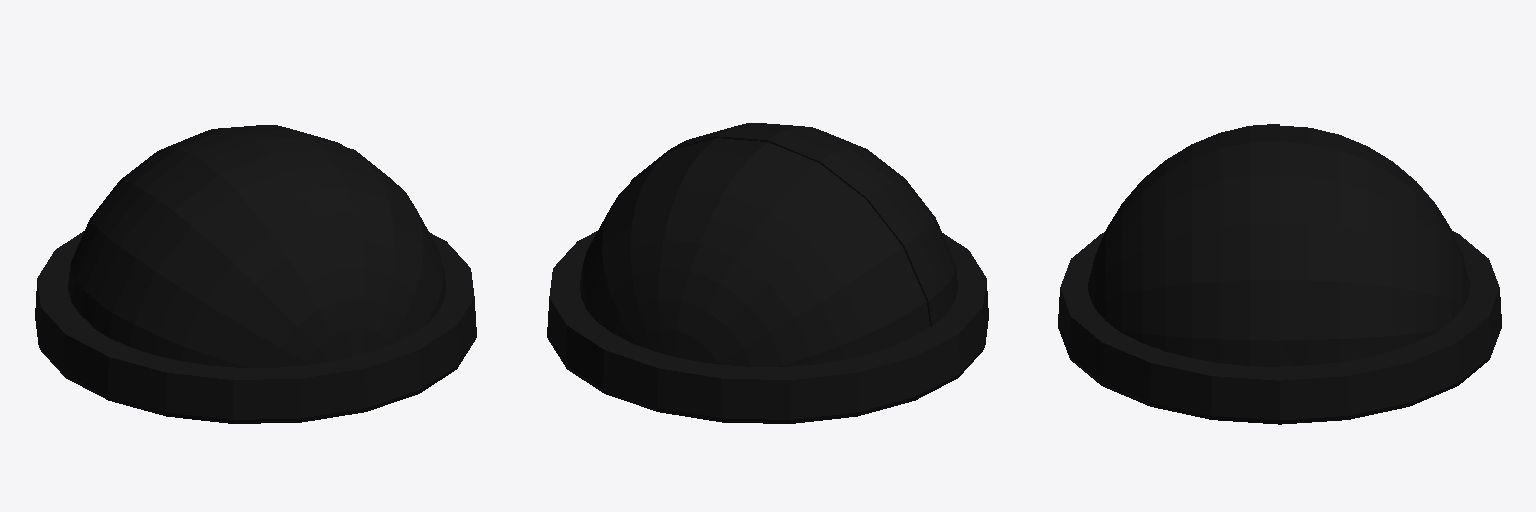
Rendered from eye_geo.obj.
3 renders of one model, left to right at view 1: azimuth 30°, elevation 25°; view 2: azimuth 150°, elevation 25°; view 3: azimuth 270°, elevation 25°, orthographic.
Visible parts, largest first — view 1: geo_grp asset lid_top_geo, geo_grp asset border_geo, geo_grp asset lid_bot_geo; view 2: geo_grp asset lid_bot_geo, geo_grp asset border_geo, geo_grp asset lid_top_geo; view 3: geo_grp asset lid_top_geo, geo_grp asset lid_bot_geo, geo_grp asset border_geo.
Part boxes in pixels (left/top/right/bottom): geo_grp asset lid_top_geo: left=92, top=136, right=445, bottom=367; geo_grp asset border_geo: left=35, top=231, right=476, bottom=423; geo_grp asset lid_bot_geo: left=68, top=125, right=344, bottom=324; geo_grp asset lid_bot_geo: left=580, top=138, right=929, bottom=366; geo_grp asset border_geo: left=547, top=231, right=988, bottom=423; geo_grp asset lid_top_geo: left=630, top=123, right=957, bottom=326; geo_grp asset lid_top_geo: left=1088, top=124, right=1279, bottom=366; geo_grp asset lid_bot_geo: left=1280, top=126, right=1469, bottom=365; geo_grp asset border_geo: left=1058, top=231, right=1501, bottom=424.
Bounding box in the file's own units: 2.46 × 1.41 × 2.46.